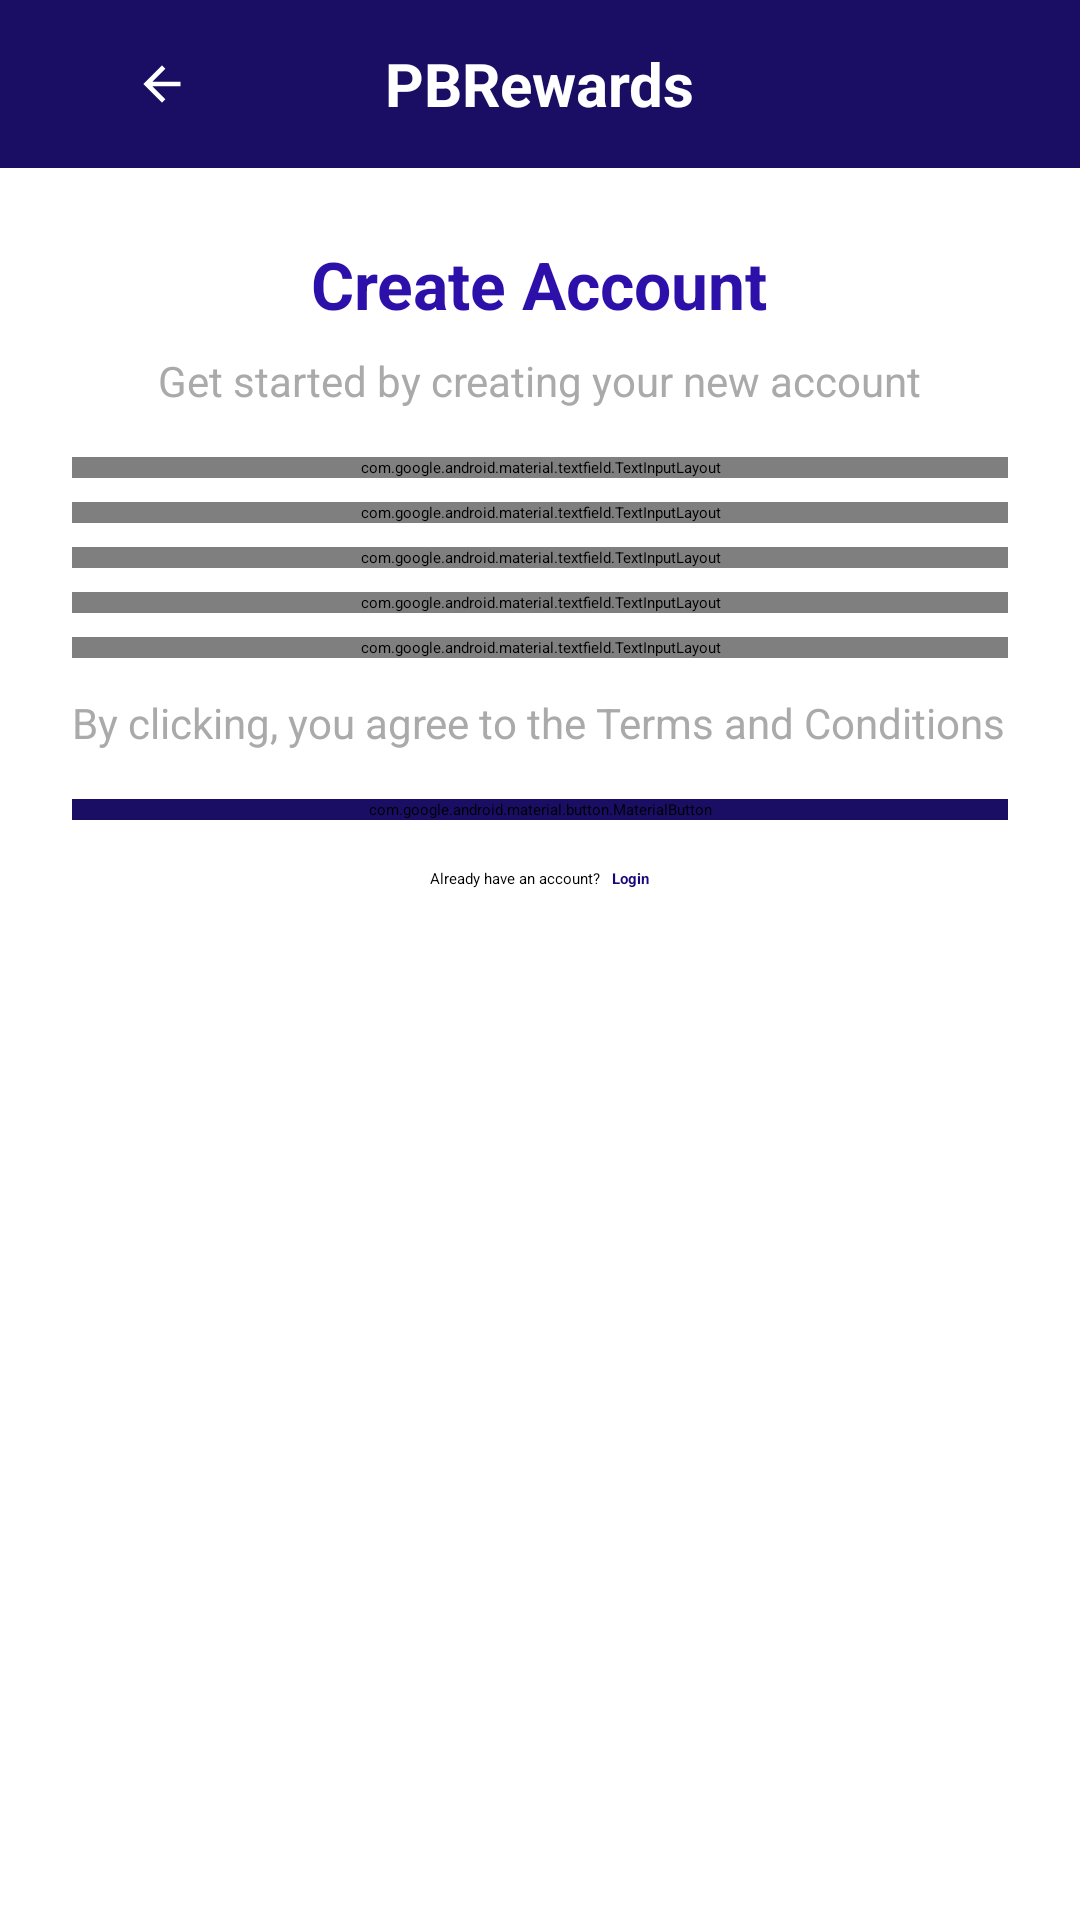

Named icons in this screenshot (1080 x 1920) and their bounding boxes, (x1, y1, x2, y2):
back arrow: (143, 65, 181, 103)
